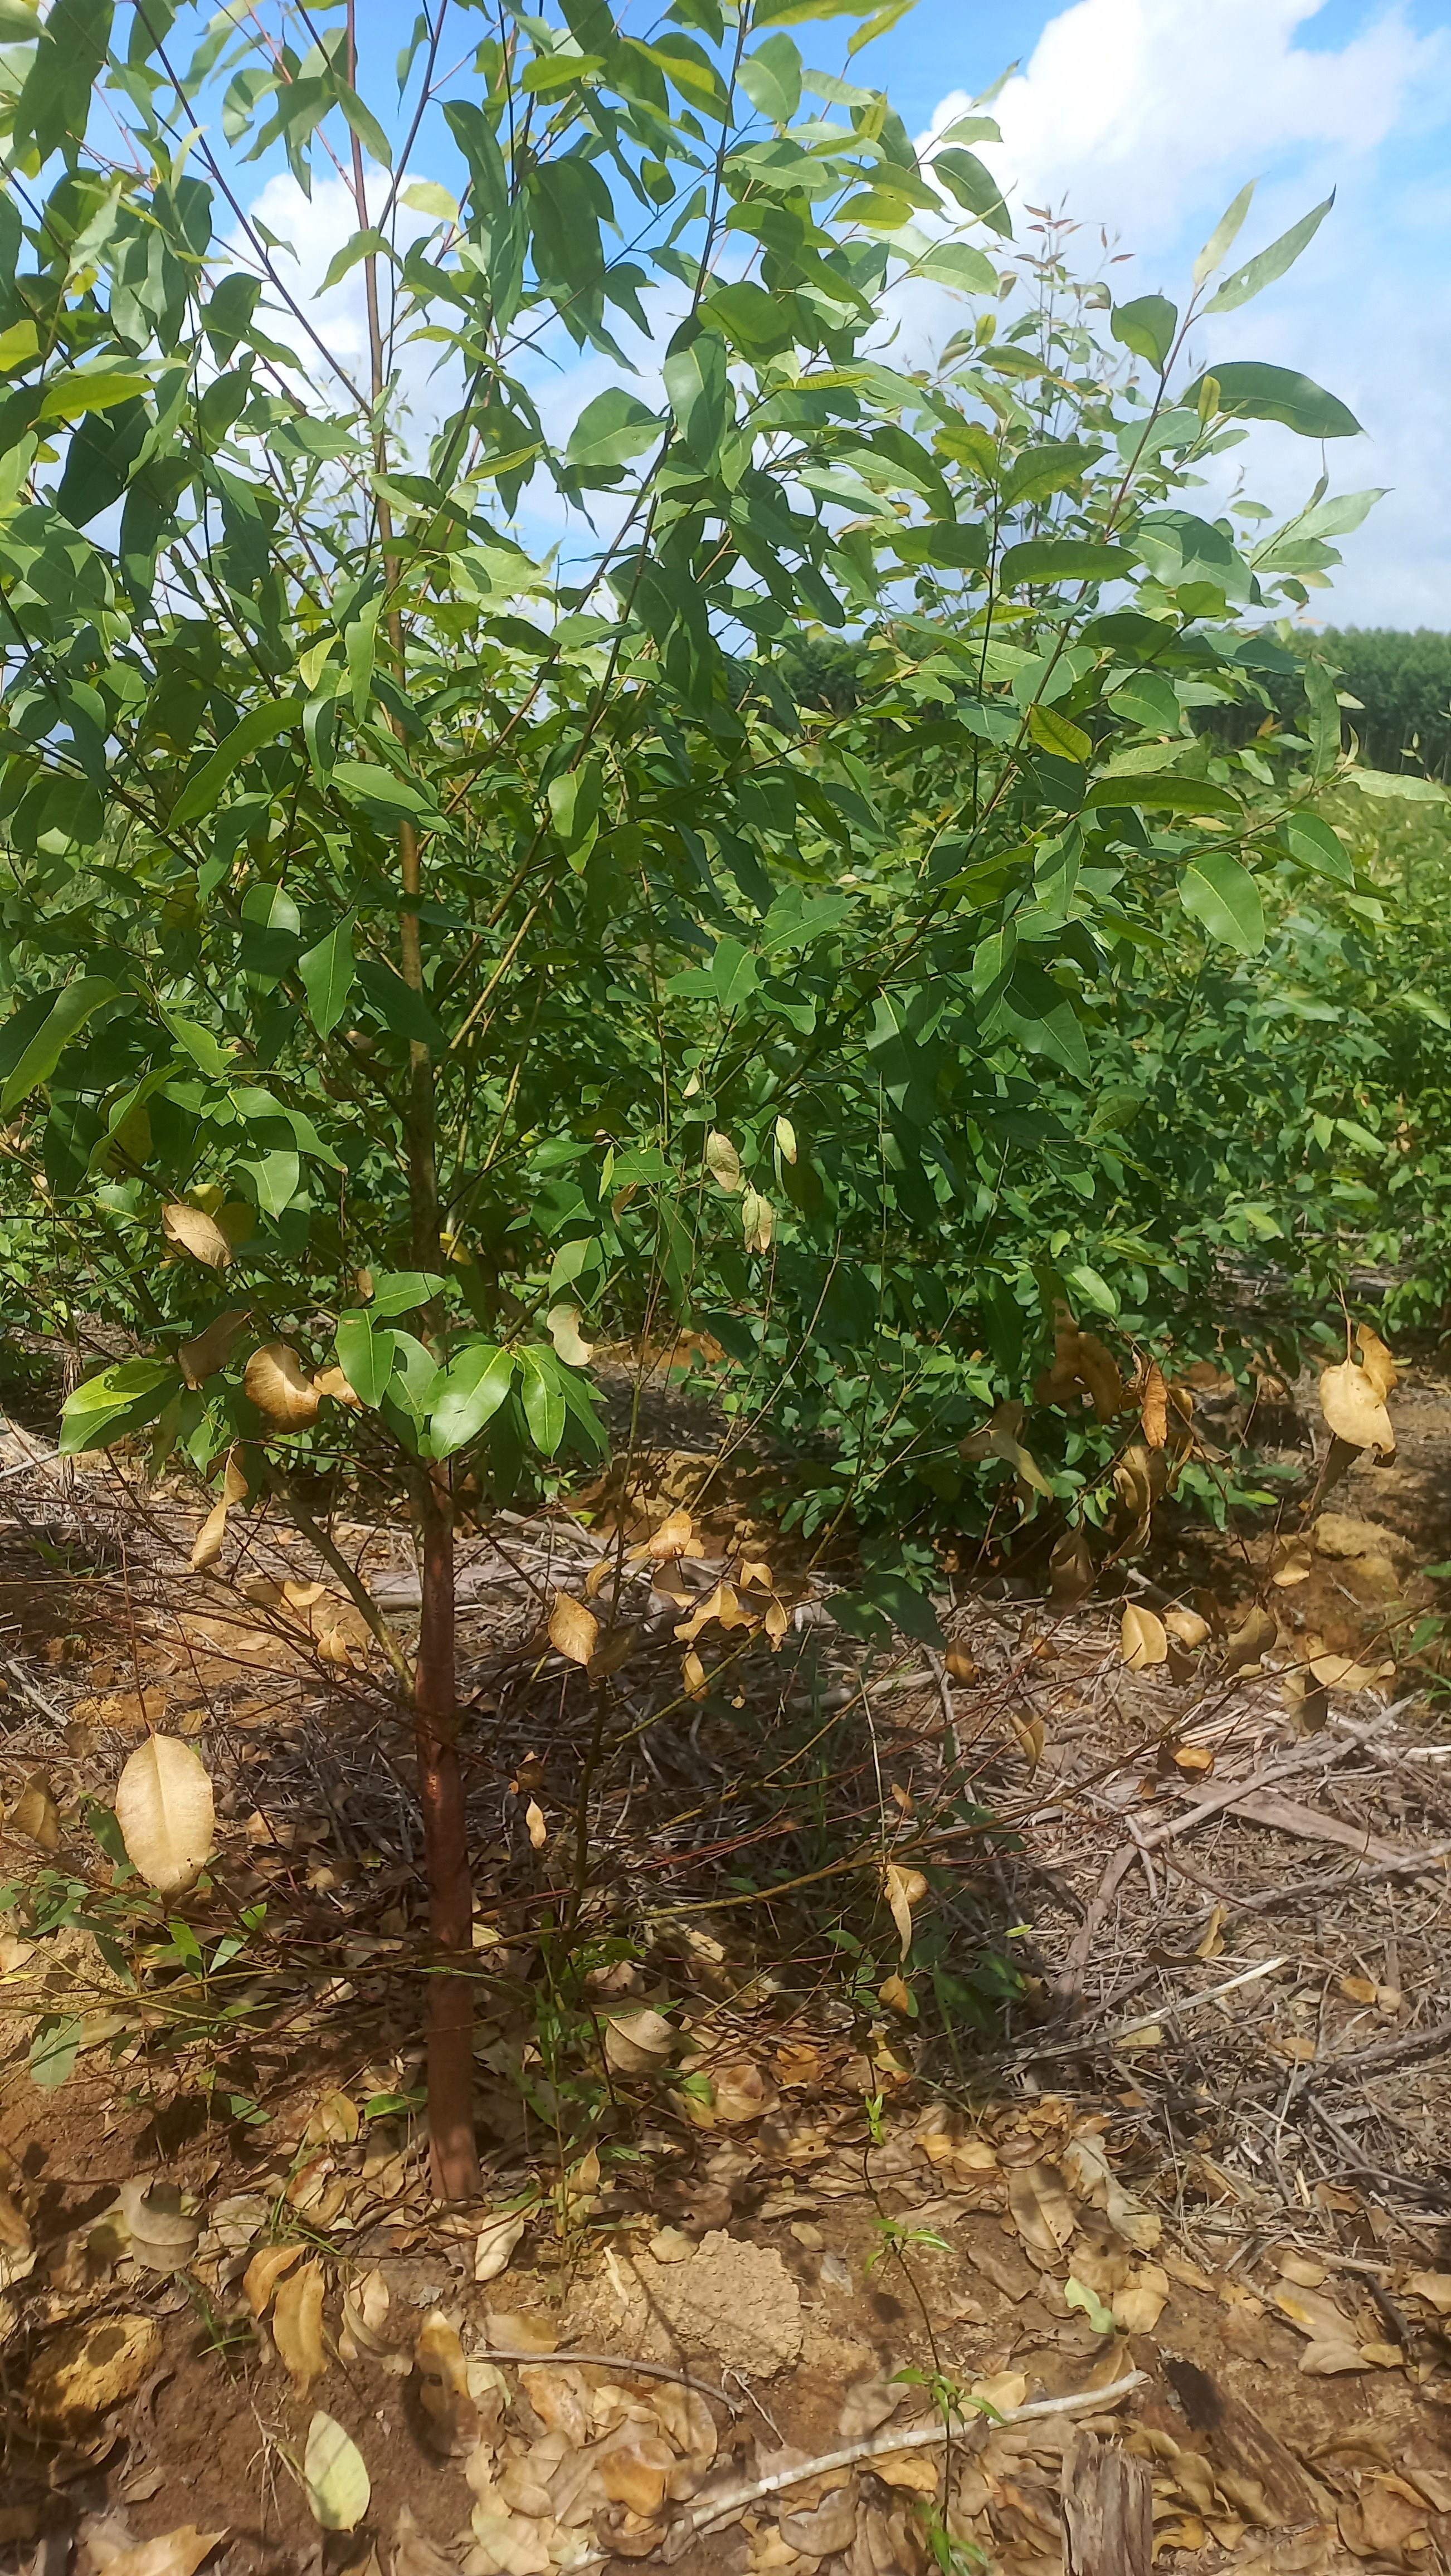Wither Tree Parts: (970, 1311, 1403, 1741), (152, 1182, 373, 1691), (538, 1440, 810, 1686), (28, 1716, 239, 1909), (694, 1116, 802, 1265), (531, 1293, 607, 1362)
